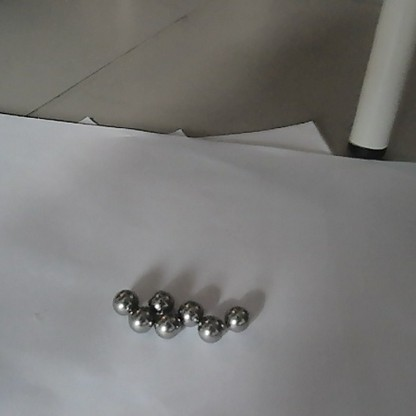ironball: (221, 301, 253, 334), (113, 285, 142, 317), (197, 313, 225, 345), (151, 313, 182, 341), (178, 299, 206, 328), (128, 304, 154, 333), (147, 288, 170, 311)
